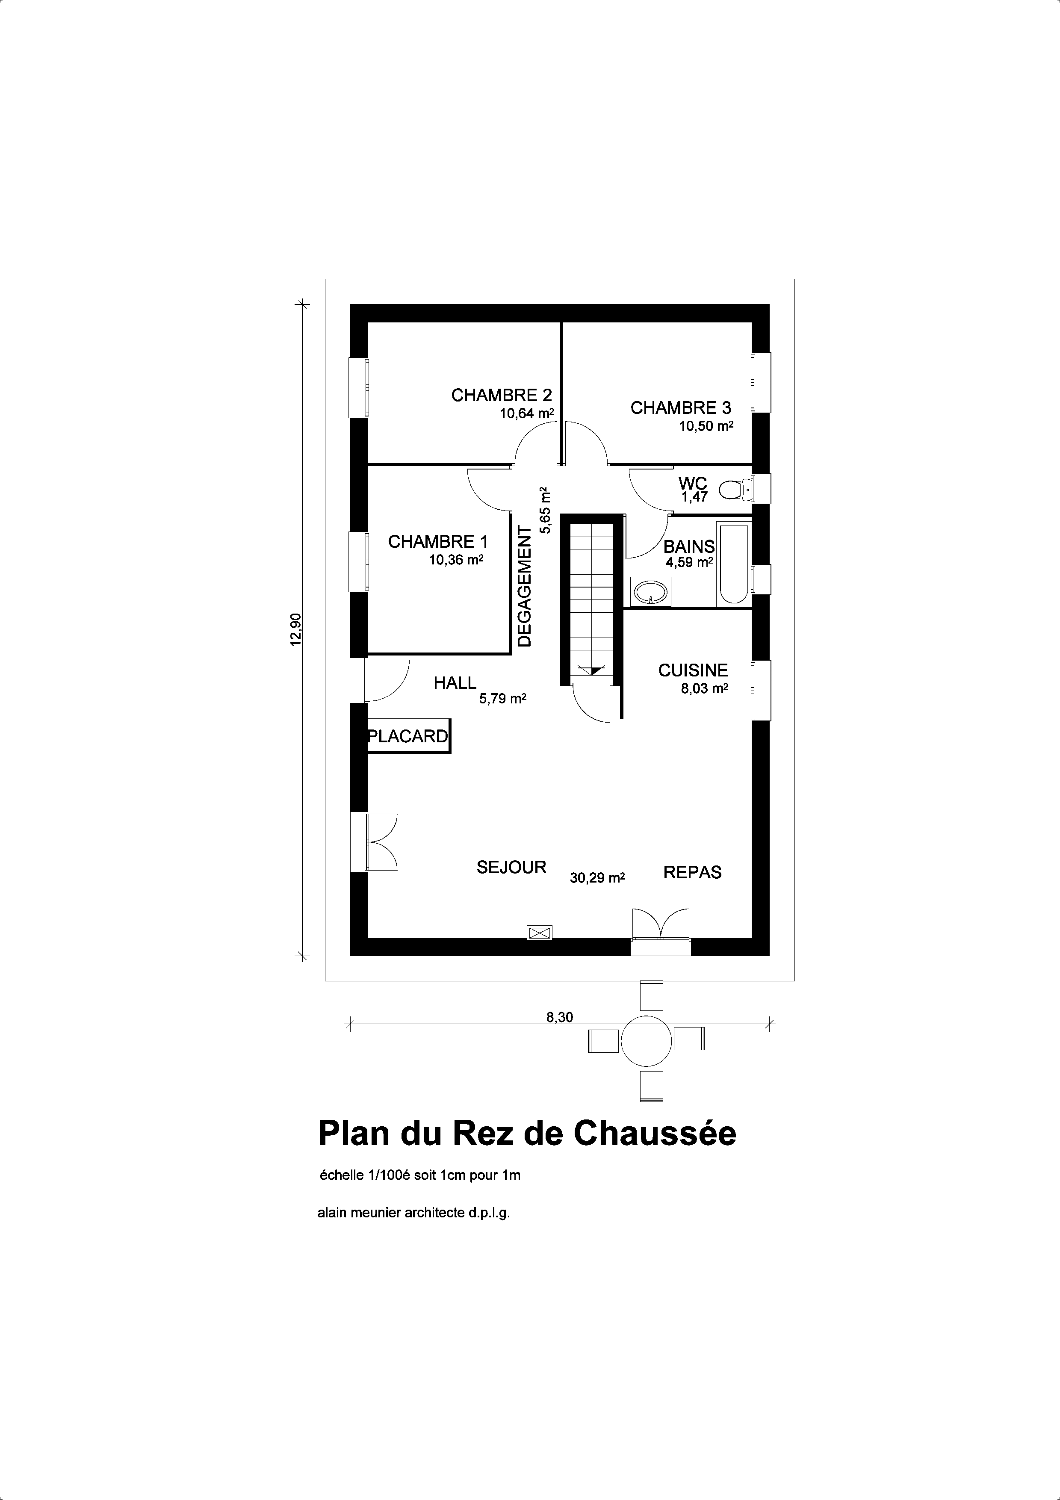bath tab: (715, 521, 753, 608)
ceramic sink: (629, 577, 673, 608)
door: (349, 655, 411, 705), (628, 466, 675, 515), (622, 514, 671, 560), (510, 421, 560, 467), (562, 421, 610, 467), (467, 466, 512, 515)
toilet: (719, 478, 753, 503)
window: (350, 811, 399, 873), (631, 907, 691, 956), (346, 530, 371, 593), (348, 357, 371, 419), (751, 564, 772, 595)
